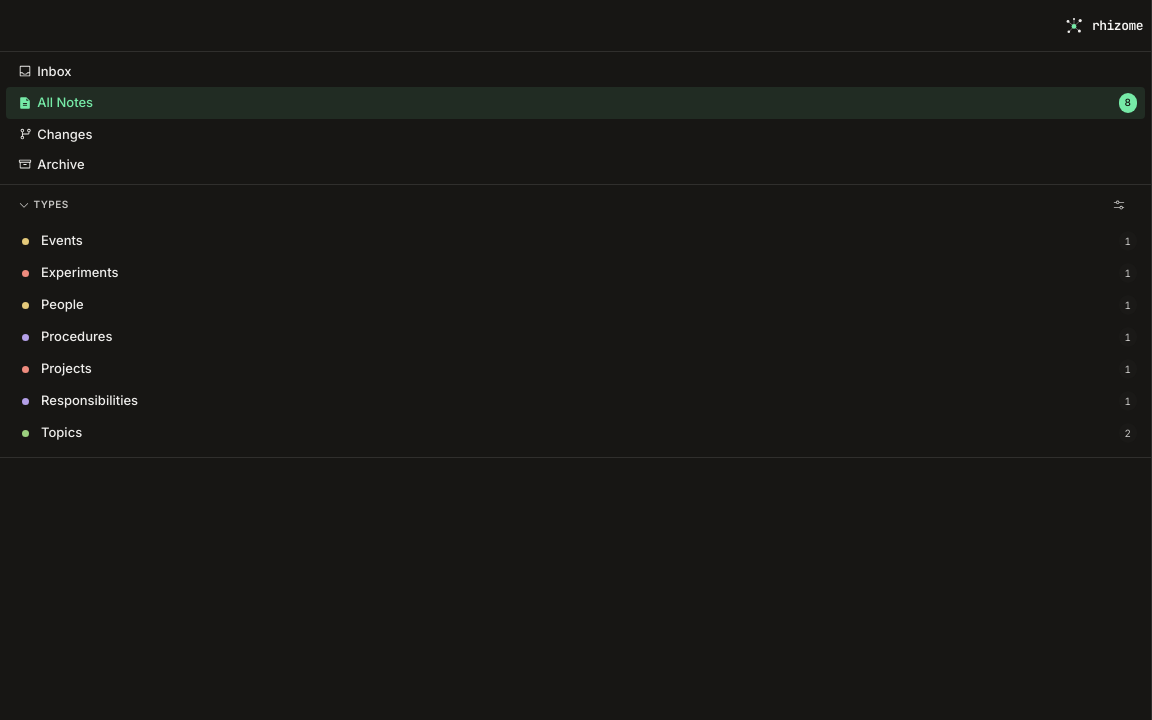
it: Sidebar › type visibility via visible property › opens popover with toggle for each section when clicking customize button
This screenshot has width=1152, height=720.
Step 1. Click the button titled "Customize sections" → (1119, 205), box [1106, 193, 1131, 217]
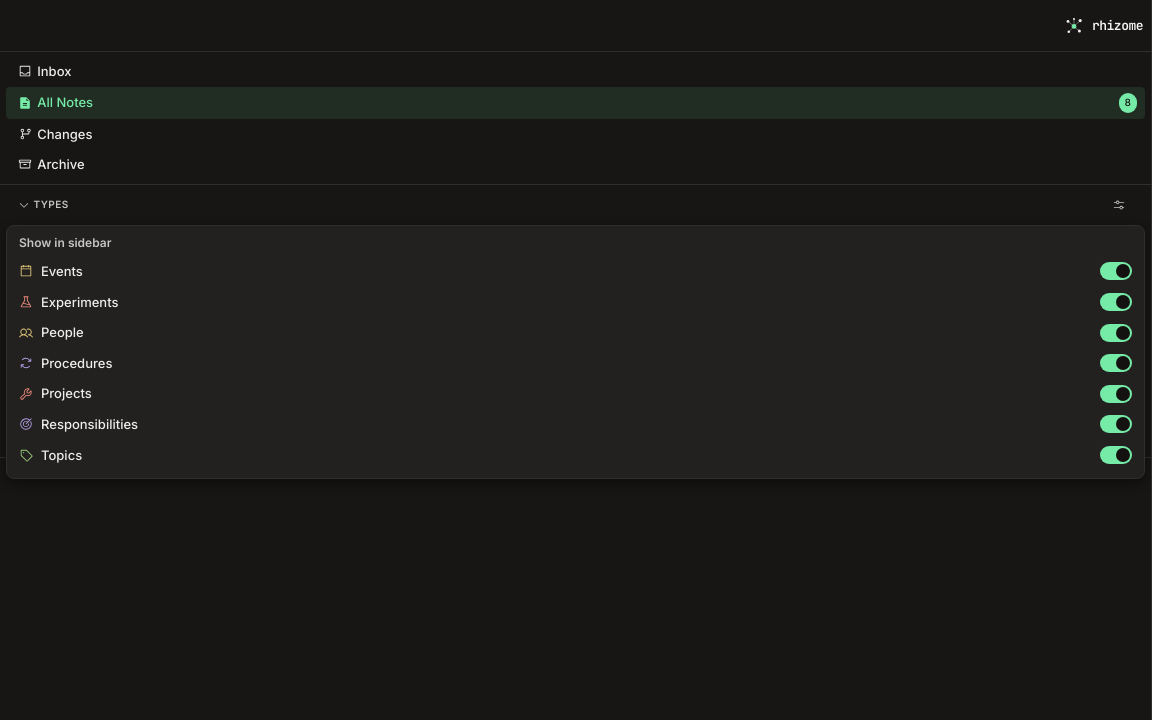
Expected: the text "Show in sidebar" is shown, [19, 235, 112, 250]
Expected: the button with aria-label "Toggle Projects" is shown, [7, 378, 1144, 409]
Expected: the button with aria-label "Toggle People" is shown, [7, 317, 1144, 348]
